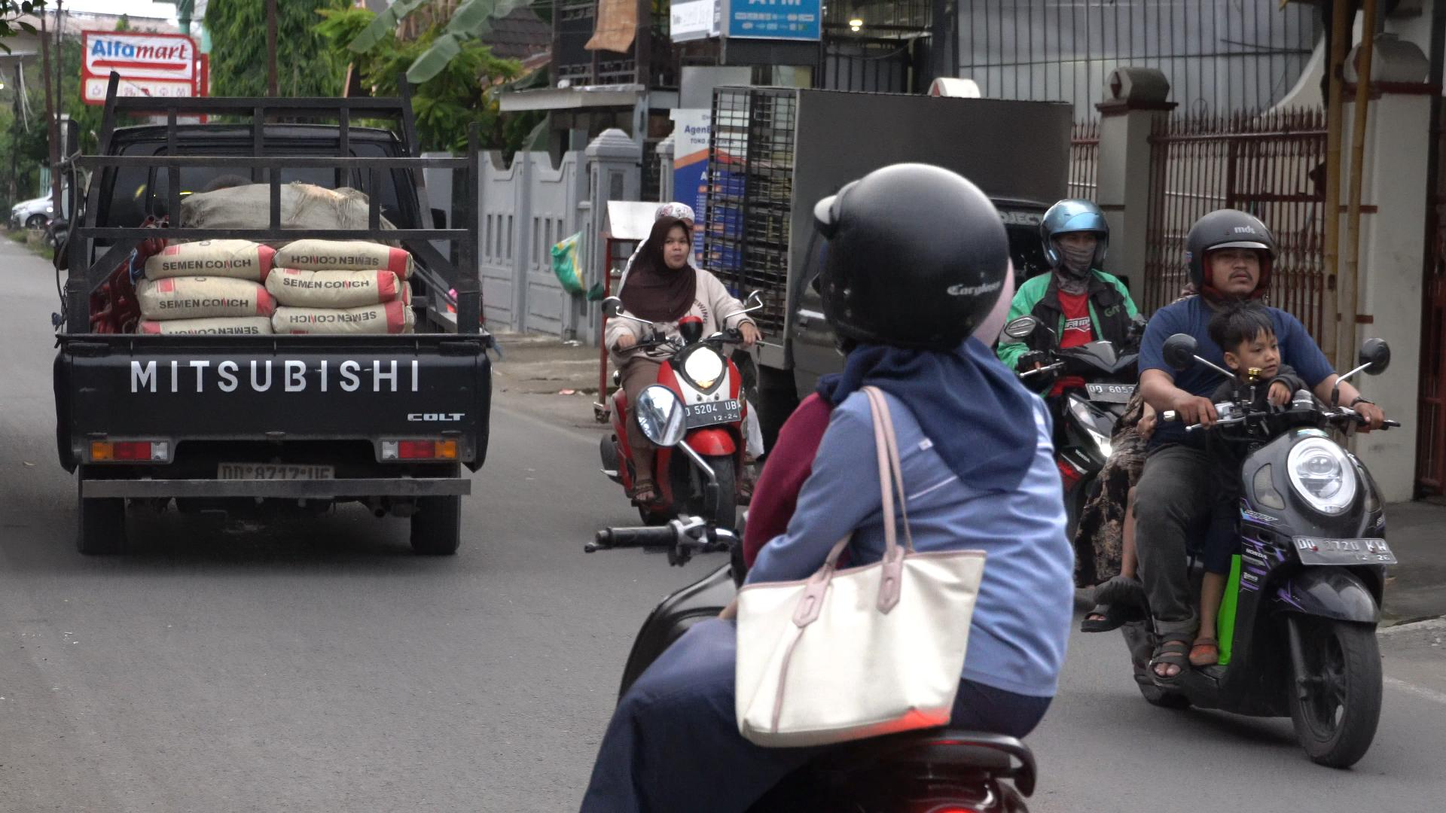number-plate: (1285, 529, 1396, 574), (684, 395, 745, 426)
